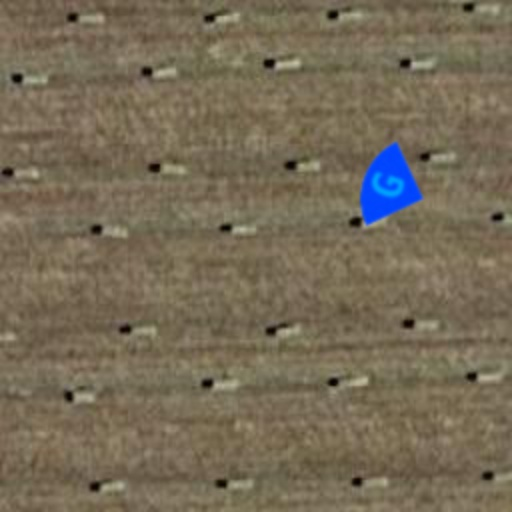quarter_circle: (332, 130, 444, 242)
